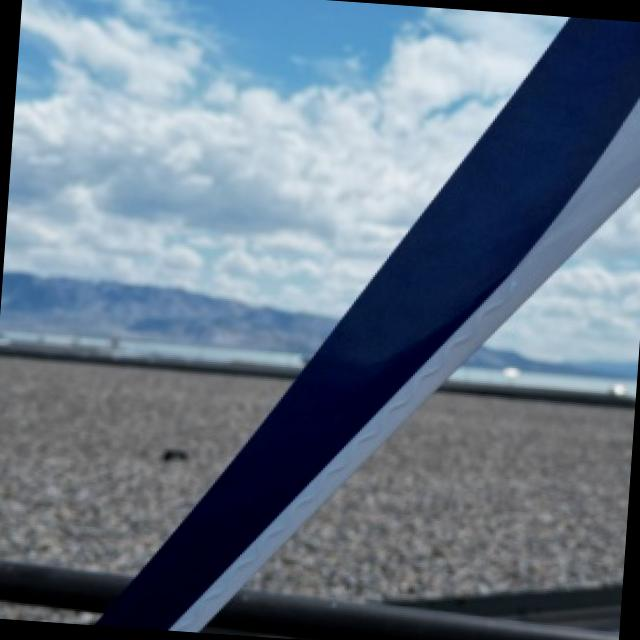healthy: (102, 17, 640, 628)
